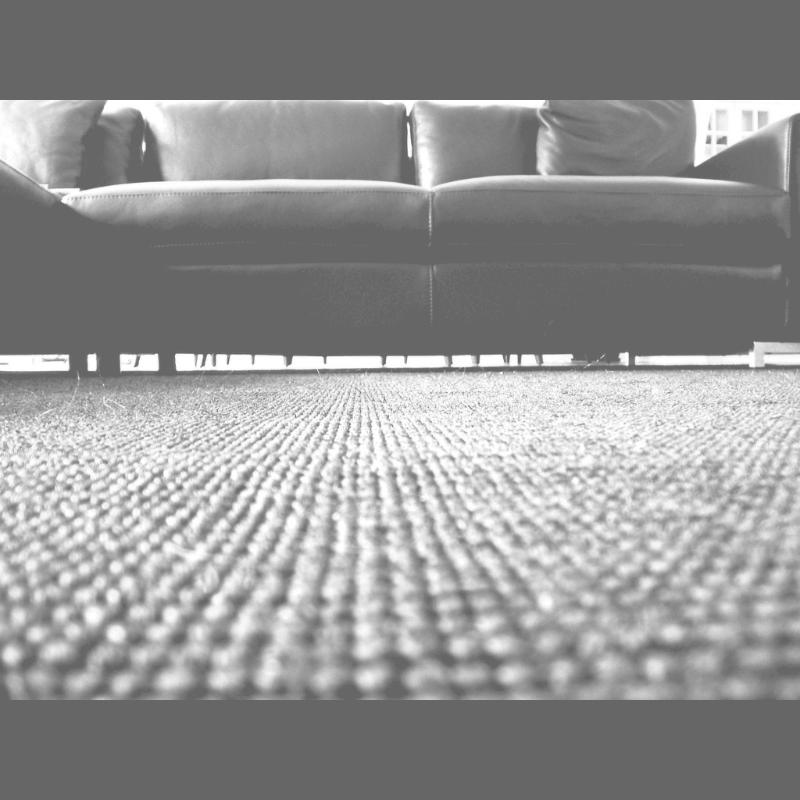pillow: (135, 100, 413, 188), (540, 100, 700, 178), (408, 100, 542, 190), (0, 100, 118, 200)
